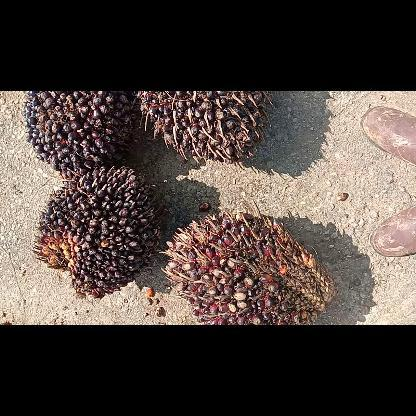TBS mentah: (158, 200, 338, 324), (32, 166, 162, 298), (136, 91, 272, 167), (23, 91, 135, 179)
